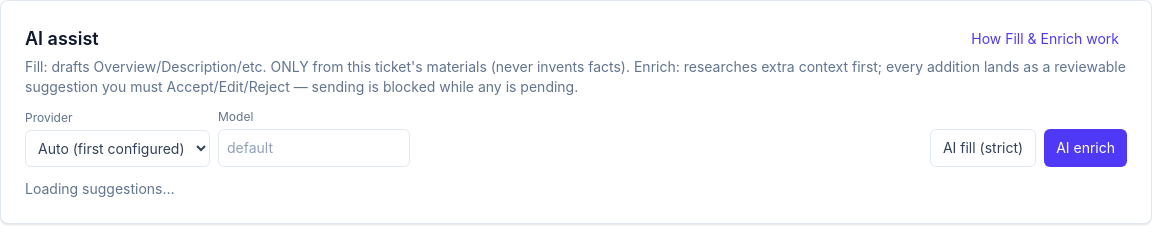
Test: TASK-UIC2: AI loading states, picker, provenance, help › shows a disabled Enriching… state while ai/enrich is in flight
Click the button "AI enrich" at (1086, 148), box [1044,129,1127,167]
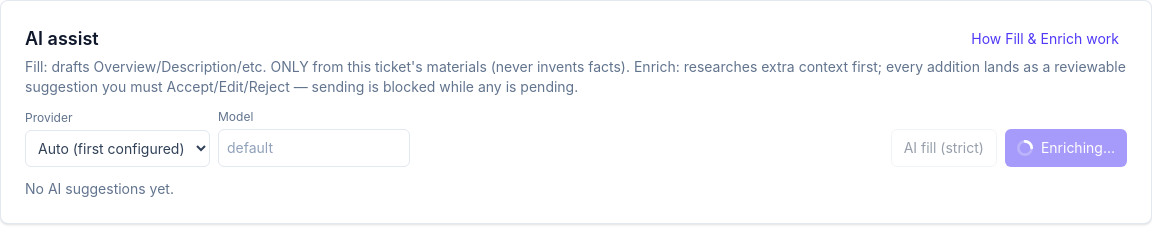
expect the button "Enriching…" is disabled: met, box [1005,129,1127,167]
expect the button "AI fill (strict)" is disabled: met, box [891,129,997,167]
